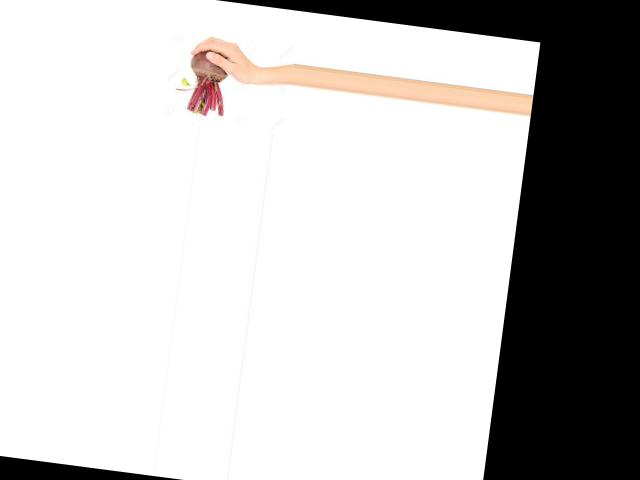beet: (172, 46, 230, 117)
